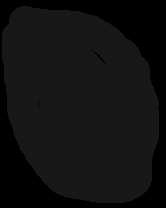fp: (1, 3, 166, 206)
